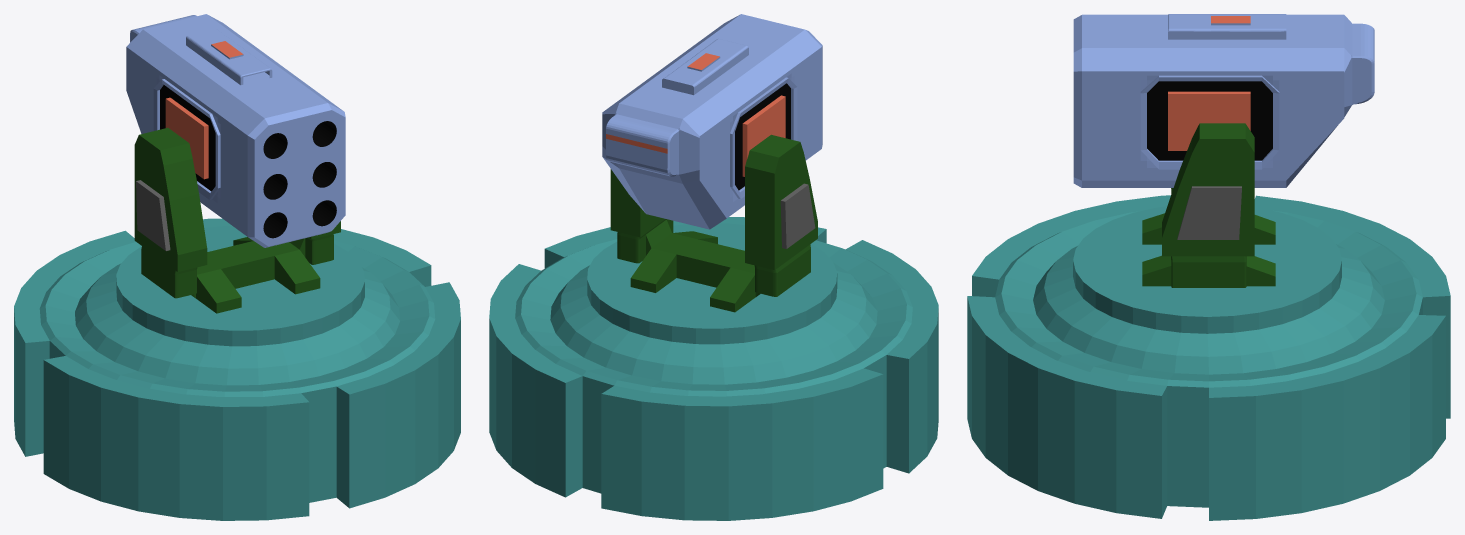
File: turret_Rocket.fbx
3 views of the same model, side by side, from view 1: azimuth 30°, elevation 25°; view 2: azimuth 150°, elevation 25°; view 3: azimuth 270°, elevation 25° (orthographic). The views are drawn at different scales.
Visible parts, largest first — view 1: Cylinder, Cube.001, Cube; view 2: Cylinder, Cube.001, Cube; view 3: Cylinder, Cube.001, Cube.
Boxes of the visible parts, <box> form: Cylinder: <box>14,218,460,520</box>; Cube.001: <box>126,14,345,247</box>; Cube: <box>134,127,340,313</box>; Cylinder: <box>489,217,938,520</box>; Cube.001: <box>602,14,822,229</box>; Cube: <box>610,134,817,312</box>; Cylinder: <box>967,195,1450,520</box>; Cube.001: <box>1073,14,1374,187</box>; Cube: <box>1142,123,1275,287</box>.
Size of the model in its own units: 418 by 381 by 418.
